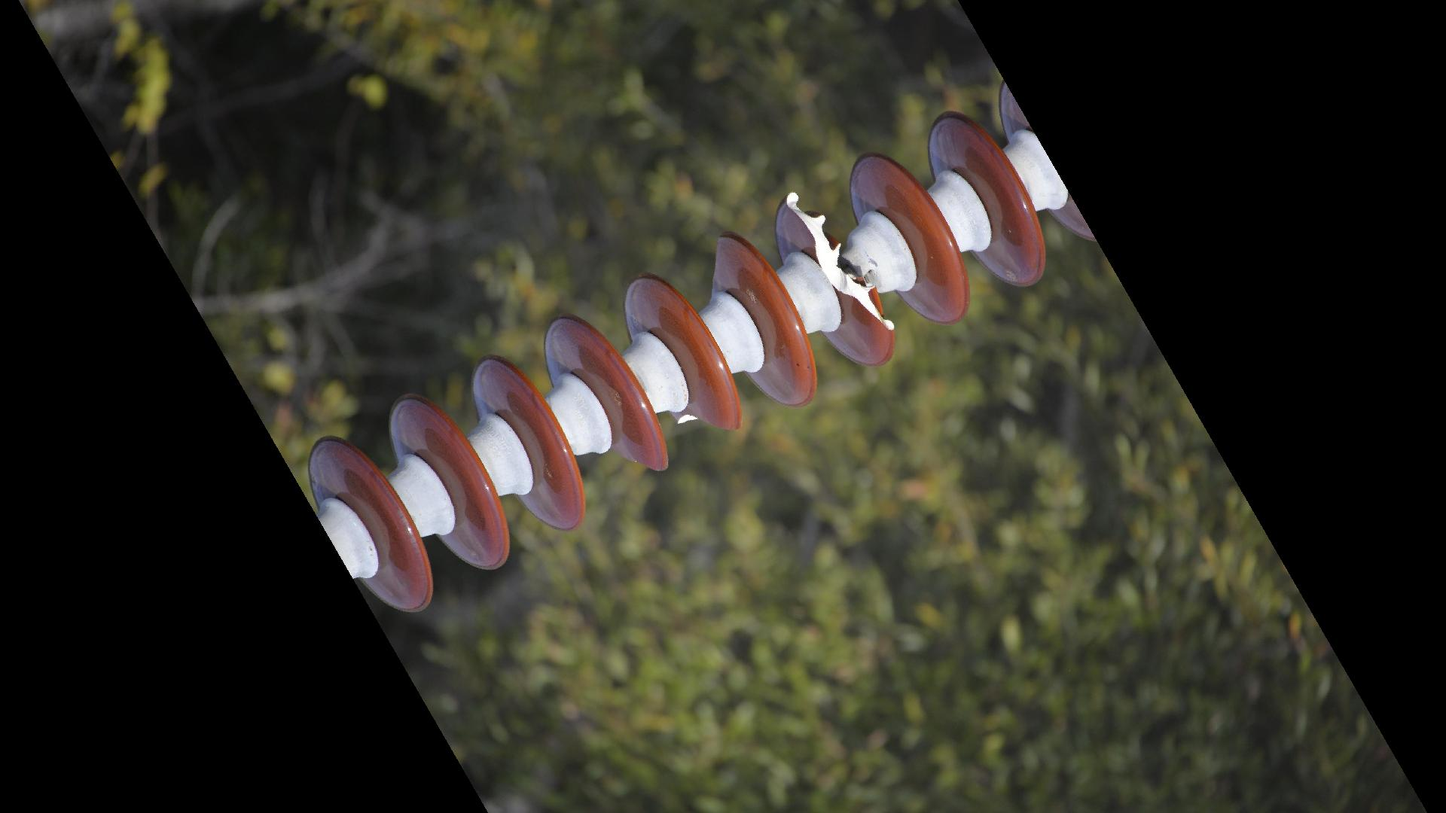insulator: (295, 75, 1084, 618)
insulator_breakage: (779, 184, 908, 342), (662, 401, 746, 439)
